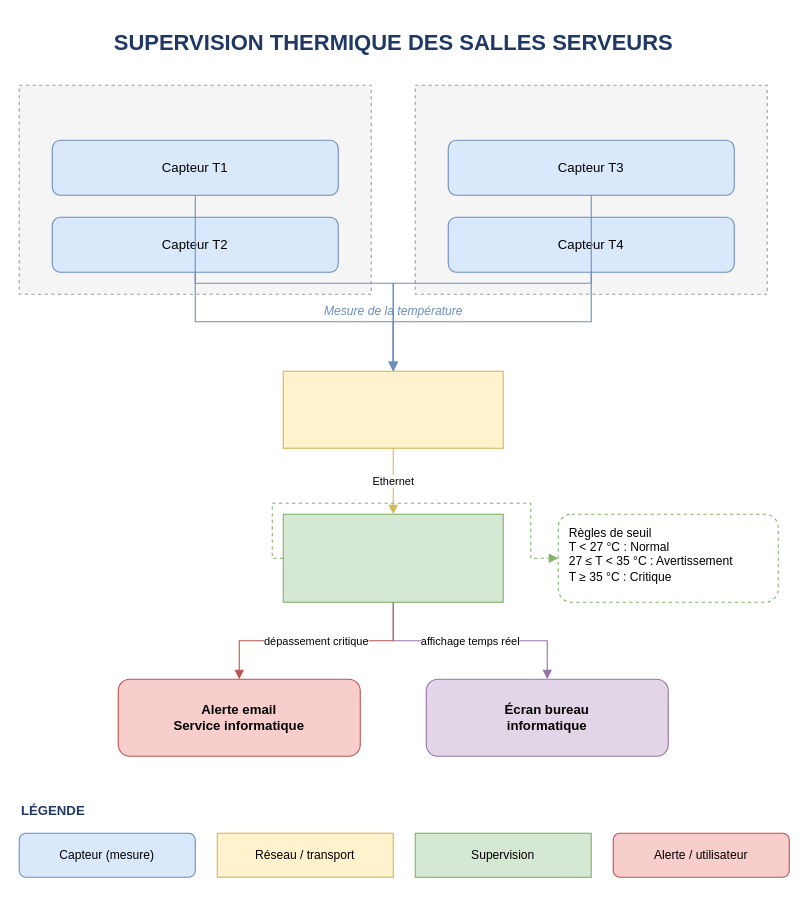
This 809x897 diagram has some shape labels left out. The box of each missing label's shape, as (x1, y1, x2, y2) in pixels:
SALLE COPERNIC: (18, 84, 371, 294)
SALLE FAURIEL: (414, 84, 767, 294)
Serveur de supervision CheckMK (SNMP / agent): (282, 513, 503, 602)
Switch / Réseau (VLAN): (282, 370, 503, 448)
